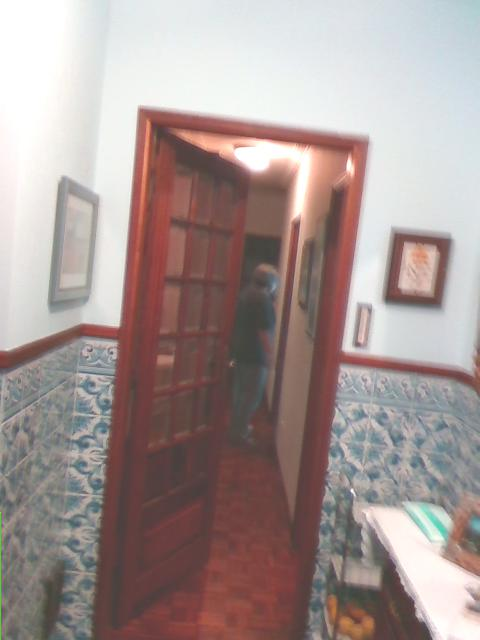semi_door: (95, 104, 368, 639)
